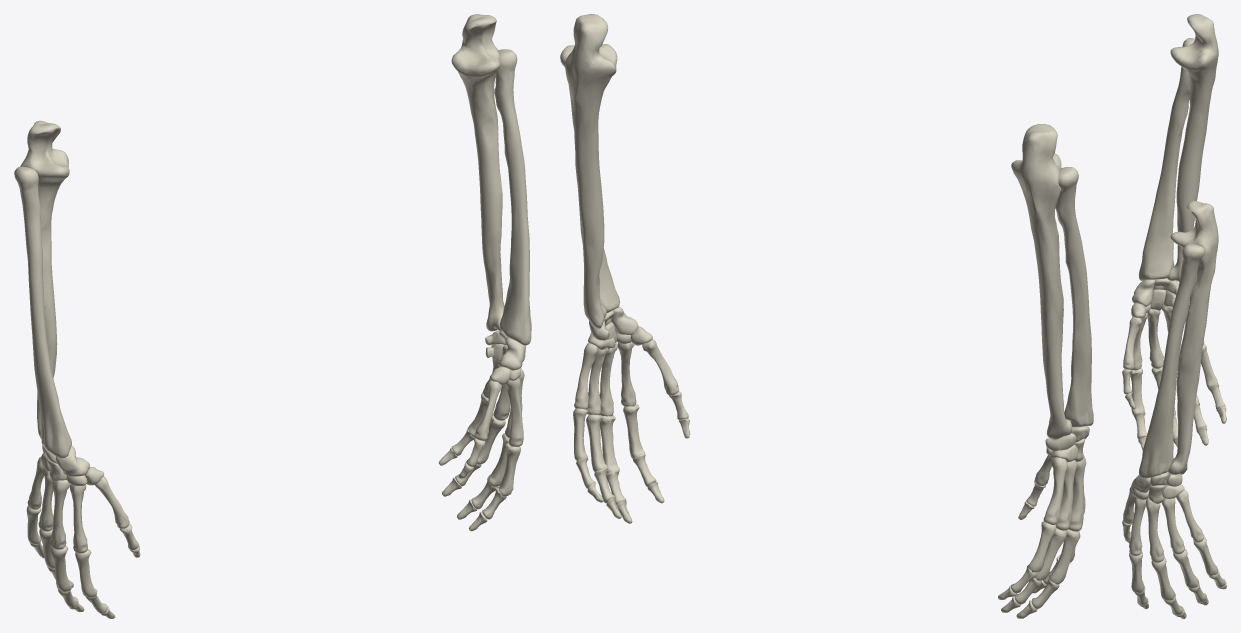
The model's file is tulanglengan.fbx.
3 views of the same model, side by side, from view 1: azimuth 30°, elevation 25°; view 2: azimuth 150°, elevation 25°; view 3: azimuth 270°, elevation 25° (orthographic). The views are drawn at different scales.
Visible parts, largest first — view 1: Skeleton; view 2: Skeleton; view 3: Skeleton.
Boxes of the visible parts, left/top/right/bottom form: Skeleton: left=14, top=14, right=531, bottom=618; Skeleton: left=560, top=14, right=1093, bottom=618; Skeleton: left=1122, top=14, right=1226, bottom=618.
Size of the model in its own units: 435 by 408 by 90.72.
